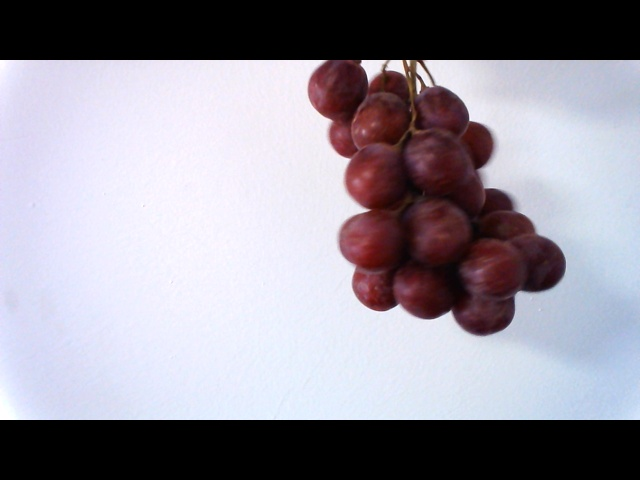grape: (302, 63, 564, 334)
